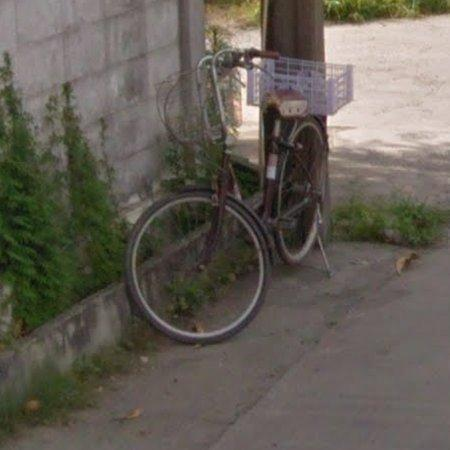bicycles: (126, 49, 354, 345)
